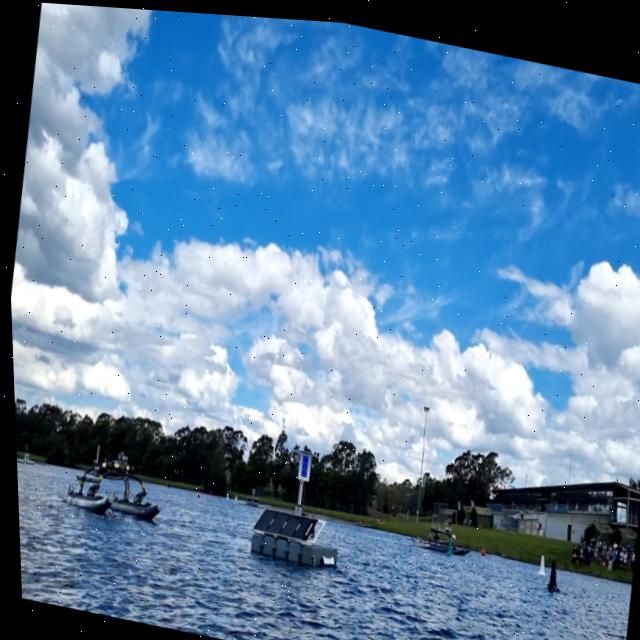led: (295, 450, 308, 476)
